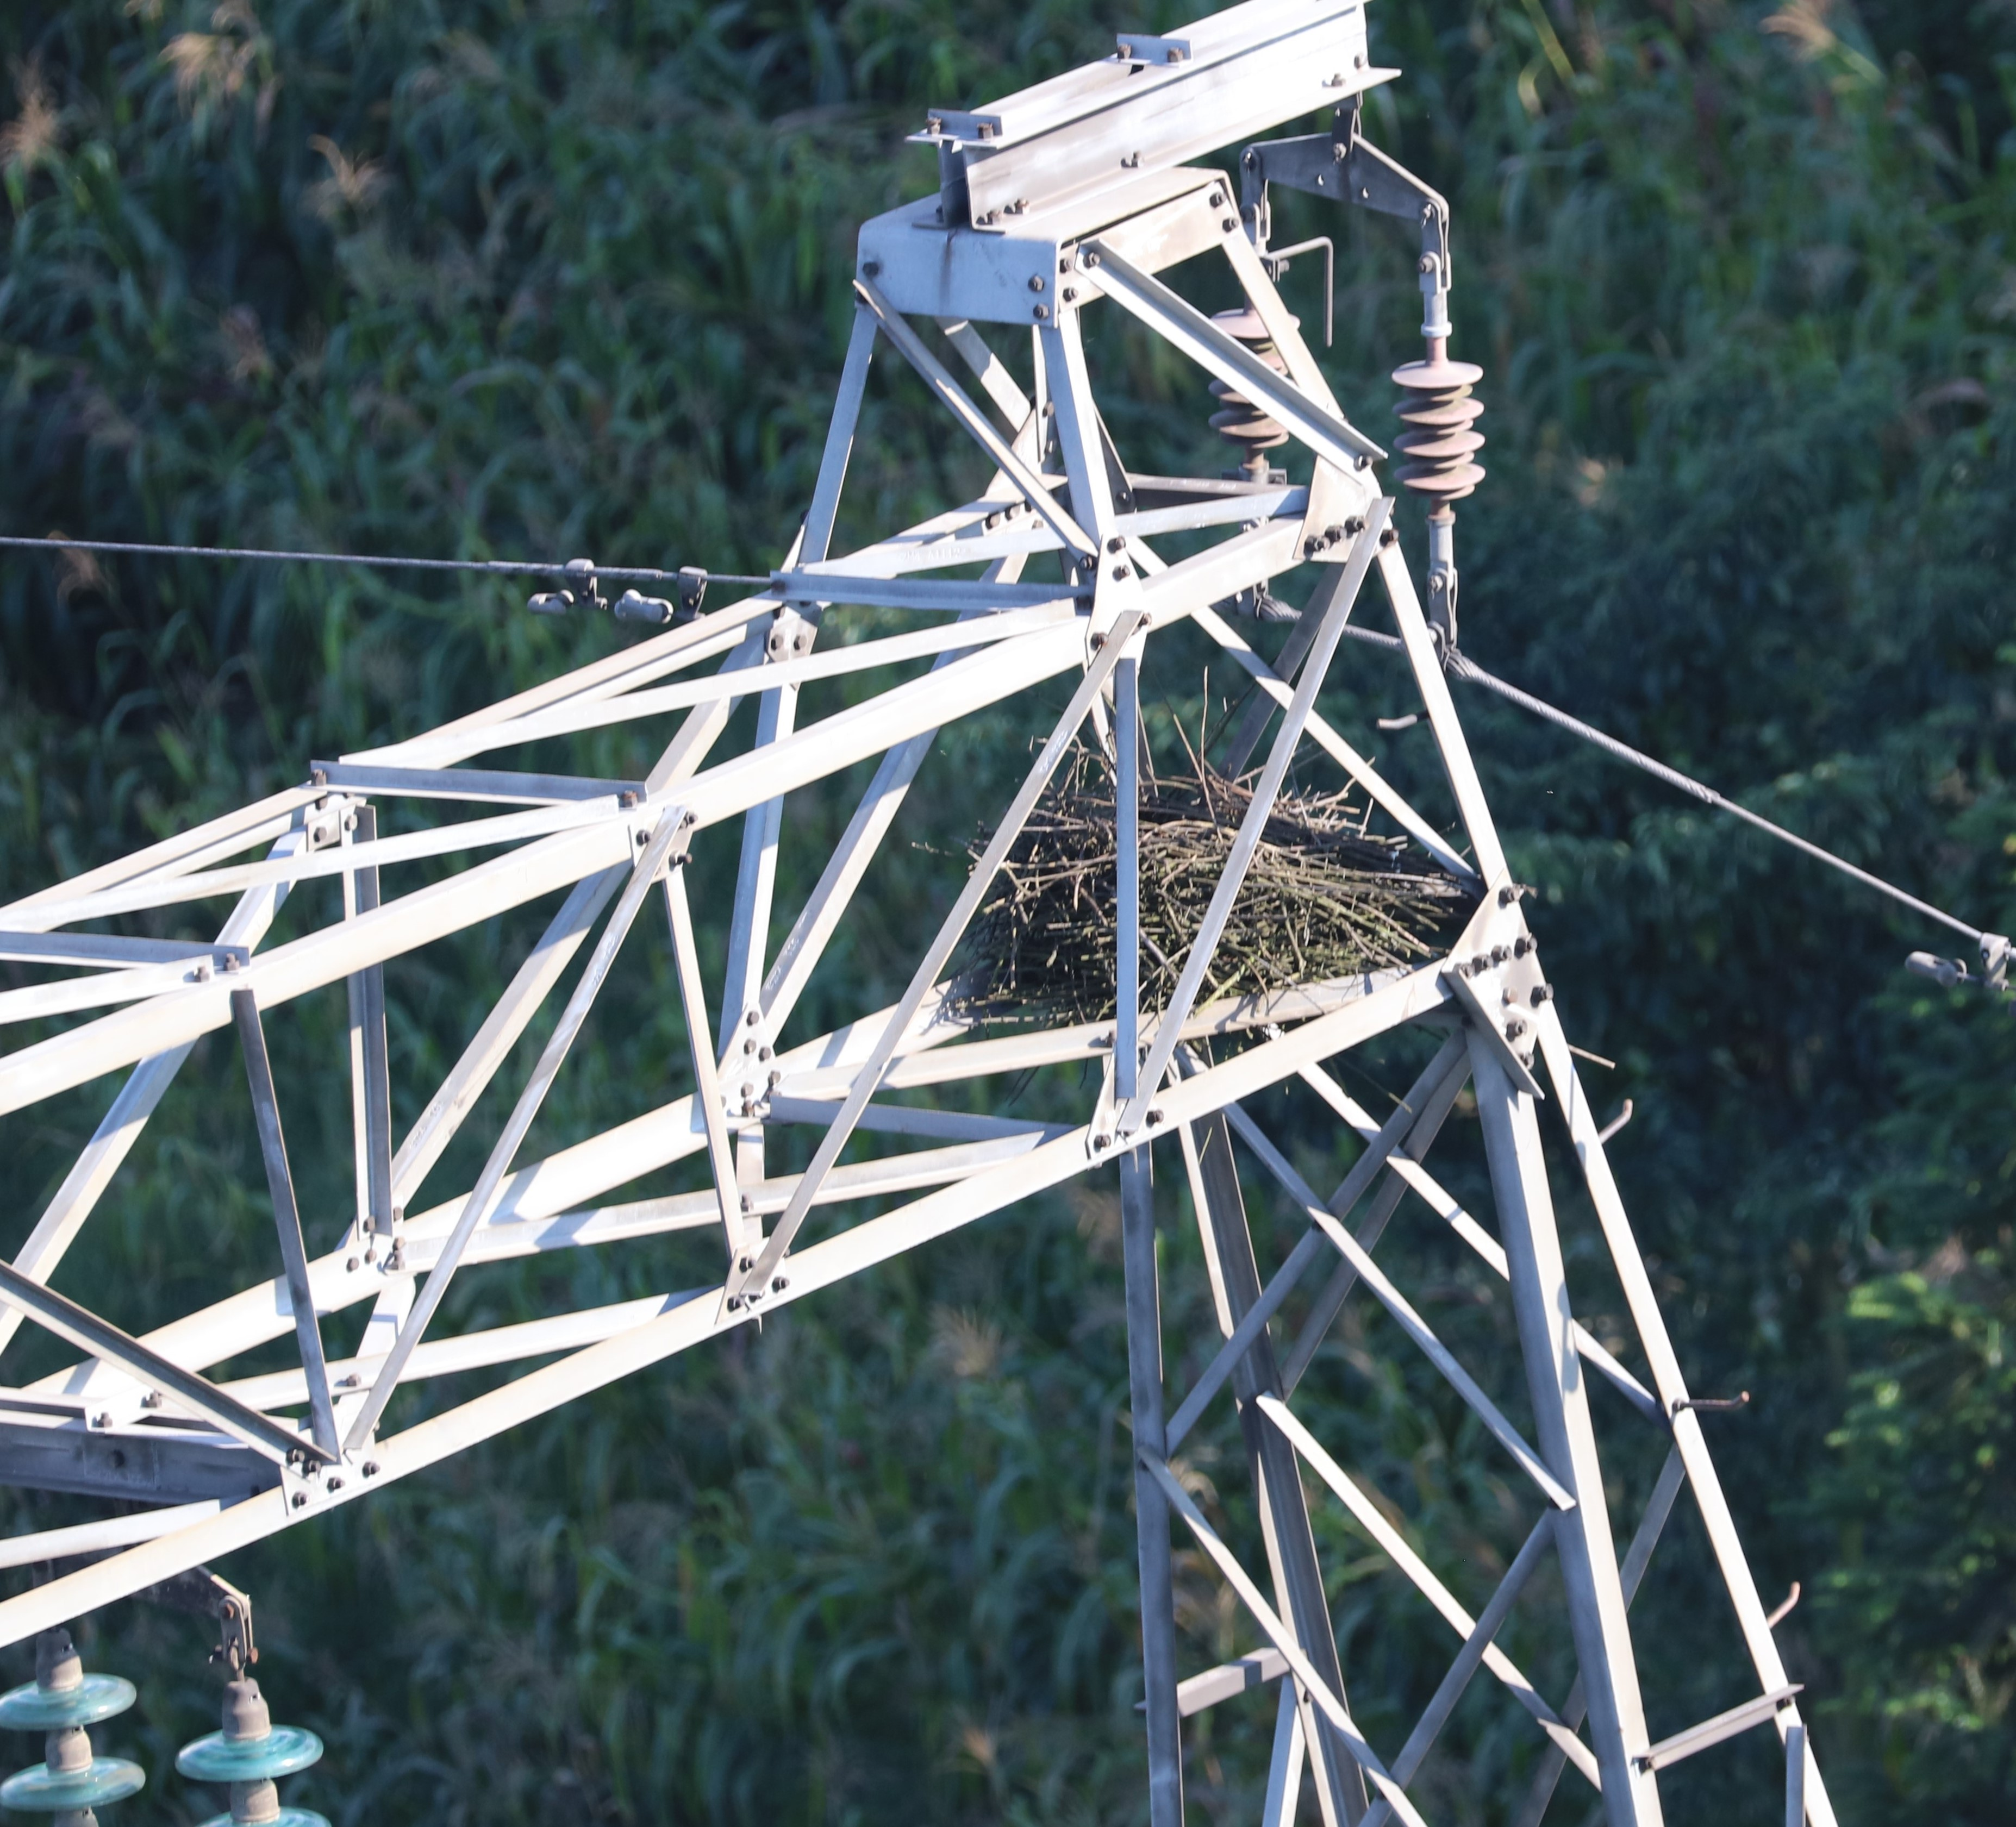niaowo: (985, 714, 1494, 1065)
